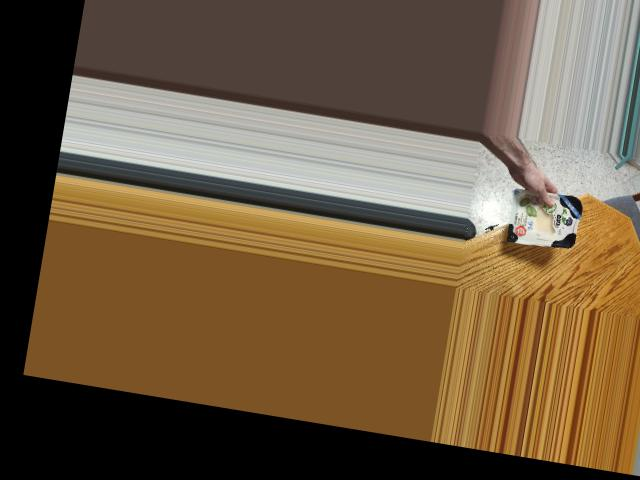cheese: (490, 182, 600, 254)
